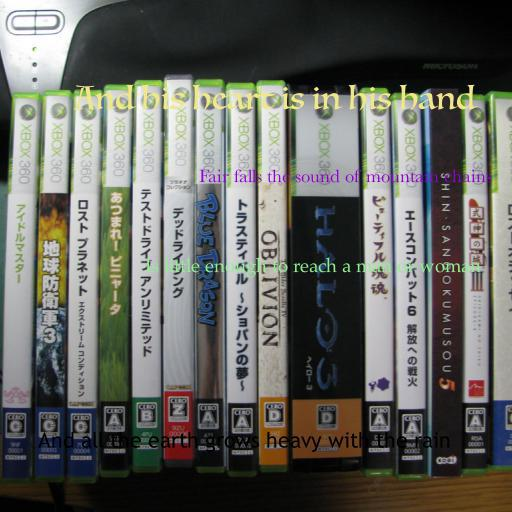Baskerville: (198, 169, 492, 183)
Luminari: (75, 84, 475, 111)
Palatino: (145, 257, 481, 278)
Trebuchet MS: (37, 431, 451, 453)
